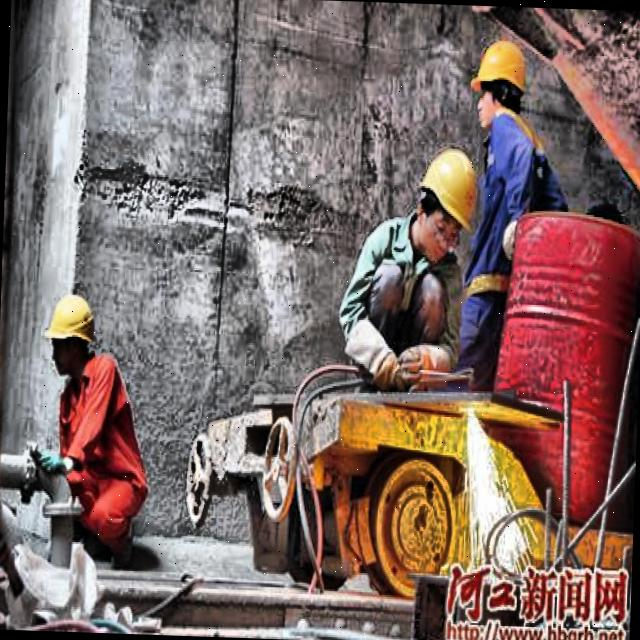helmet: (404, 142, 485, 264), (465, 34, 531, 140), (41, 286, 101, 384)
